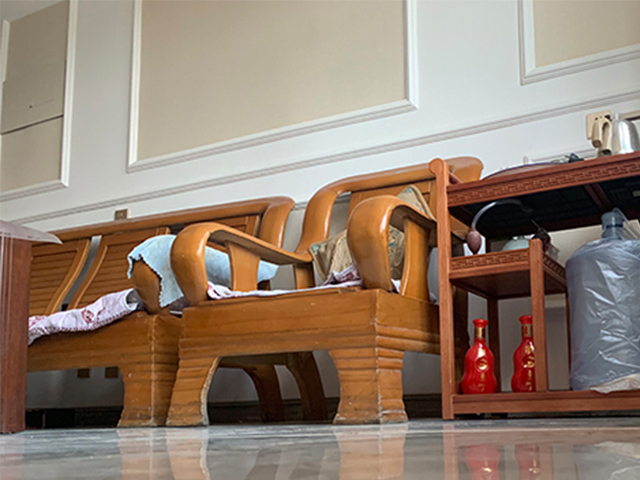sofa: (165, 156, 485, 430), (24, 194, 295, 427)
table: (430, 149, 640, 422)
